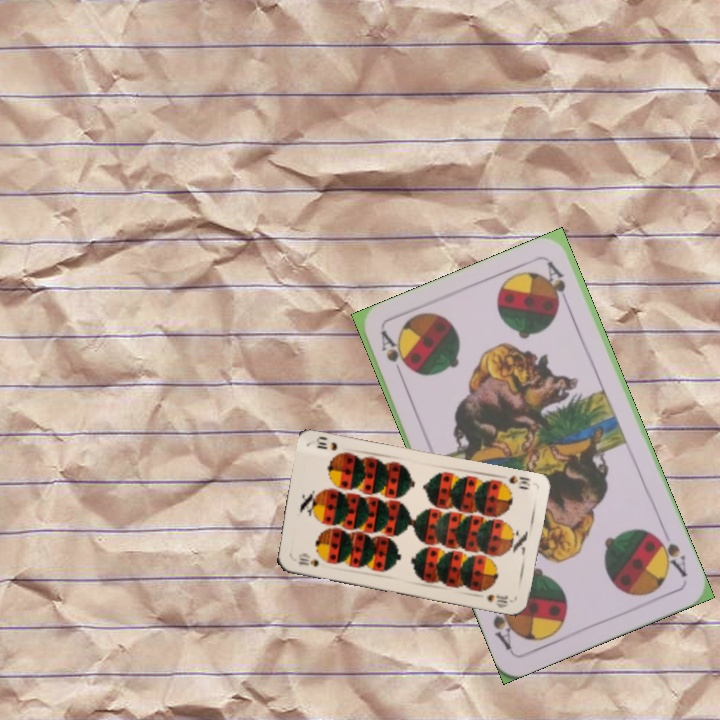S10: (505, 471, 533, 492), (294, 554, 321, 569)
SA: (650, 530, 690, 580), (377, 327, 410, 384)
